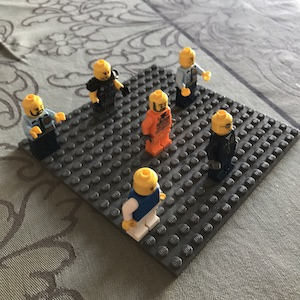Lego: (121, 169, 166, 241), (21, 95, 65, 158), (204, 108, 237, 178), (140, 89, 175, 154), (86, 60, 124, 119), (174, 46, 209, 108)
